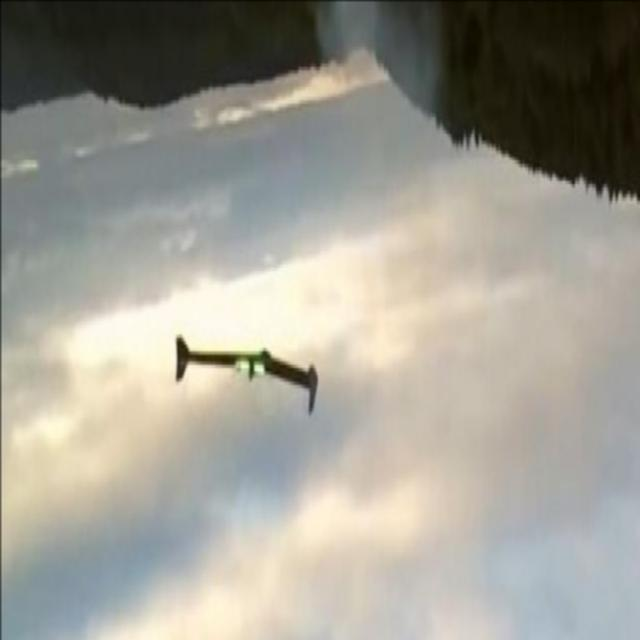plane: (172, 333, 318, 418)
